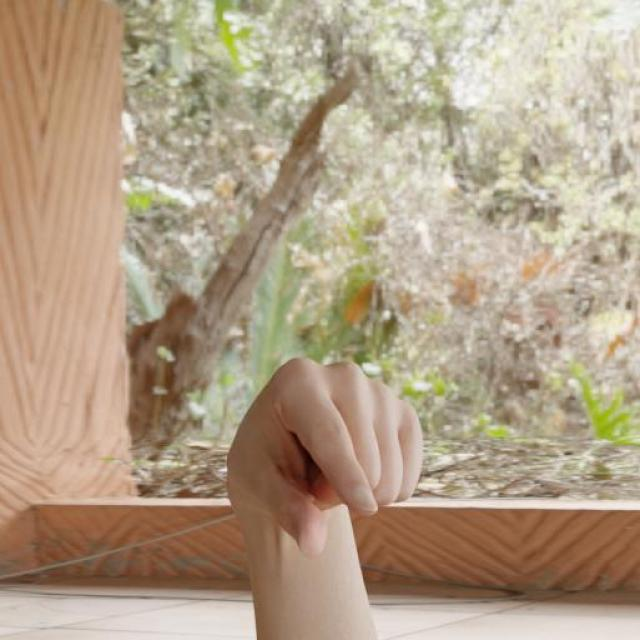P: (220, 355, 429, 559)
